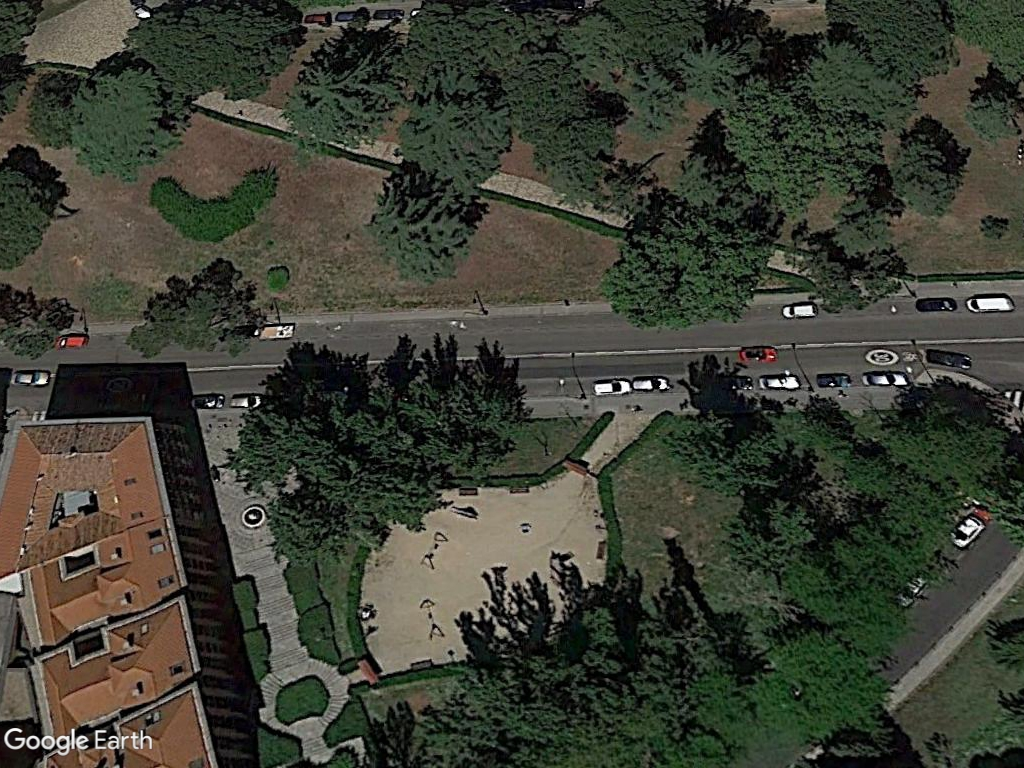van: (962, 295, 1018, 314), (779, 301, 822, 320), (590, 379, 634, 397)
